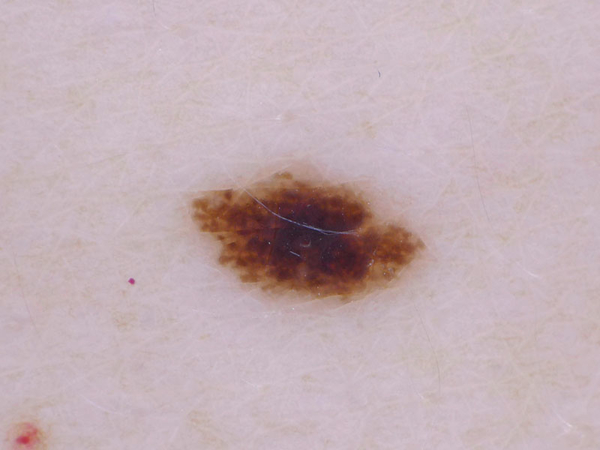Detected Lesion: (175, 161, 432, 308)
